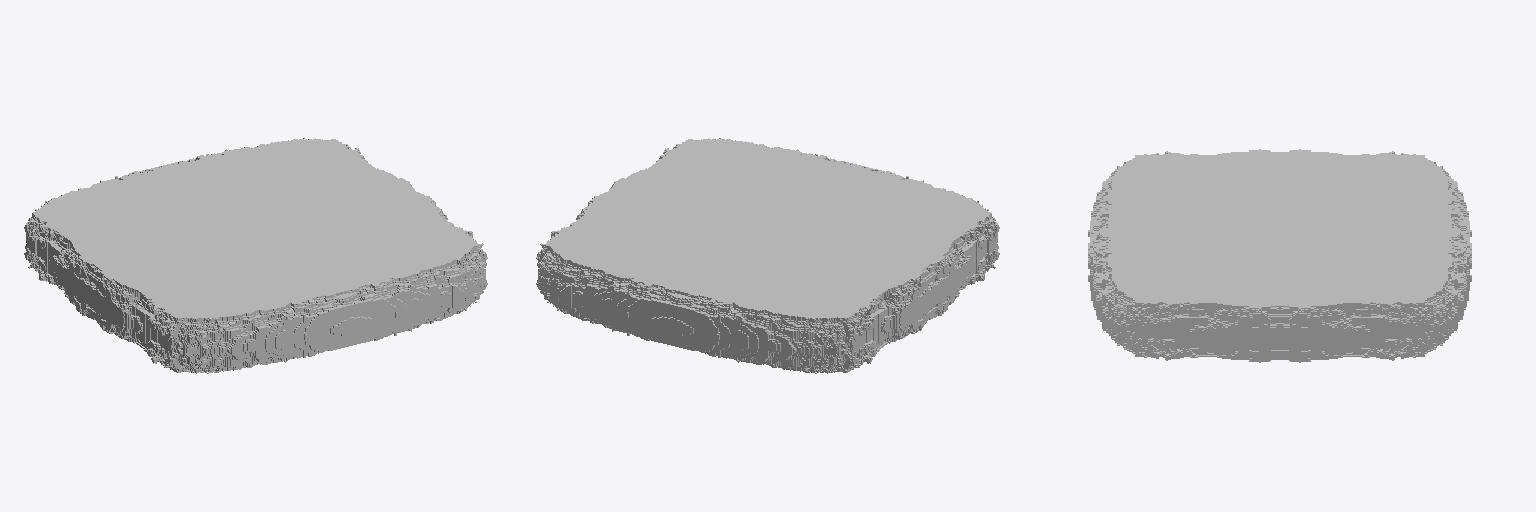
File: Cloud Pedestal-0.obj
3 renders of one model, left to right at view 1: azimuth 30°, elevation 25°; view 2: azimuth 150°, elevation 25°; view 3: azimuth 270°, elevation 25°, orthographic.
Visible parts, largest first — view 1: object 1; view 2: object 1; view 3: object 1.
Part boxes in pixels (x1,y1,x2,y2): object 1: (24, 138, 487, 373); object 1: (536, 138, 999, 373); object 1: (1088, 149, 1471, 362).
Size of the model in its own units: 25.6 by 4 by 25.6.